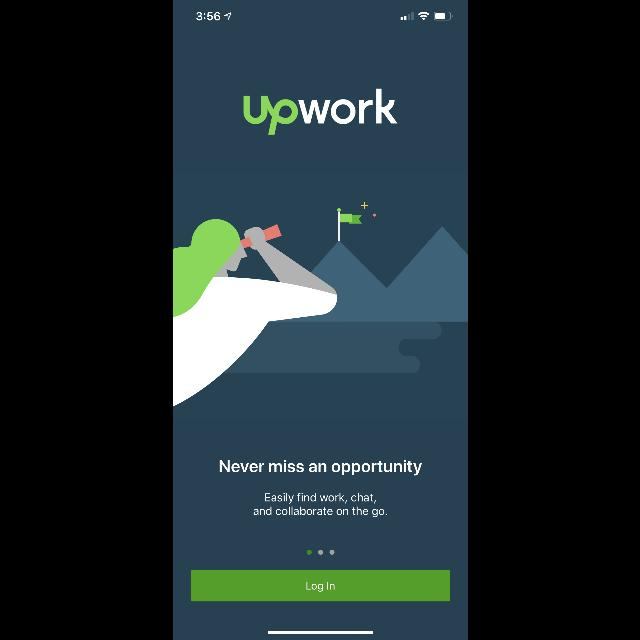image: (172, 202, 468, 406), (243, 89, 397, 135)
pageindicator: (306, 550, 334, 554)
text: (219, 460, 421, 476), (254, 493, 386, 517)
textbutton: (190, 570, 450, 602)
uppertaskbar: (196, 12, 452, 21)
